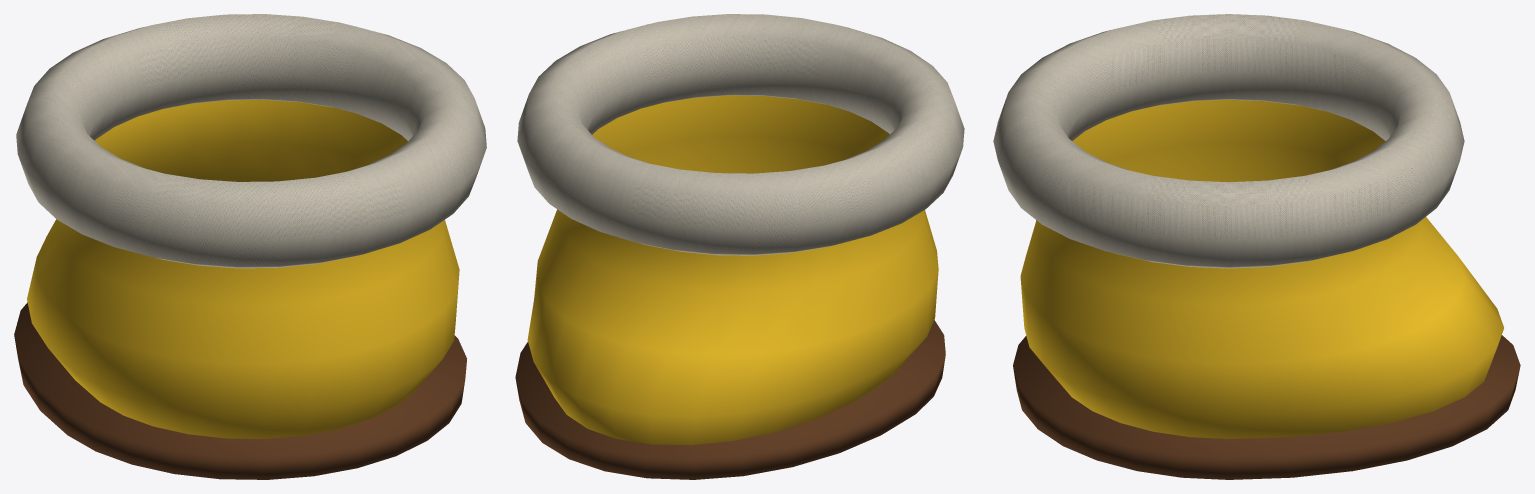
The model's file is boot.glb.
3 renders of one model, left to right at view 1: azimuth 30°, elevation 25°; view 2: azimuth 150°, elevation 25°; view 3: azimuth 270°, elevation 25°, orthographic. The views are drawn at different scales.
Visible parts, largest first — view 1: Boot; view 2: Boot; view 3: Boot.
Part boxes in pixels (x1,y1,x2,y2): Boot: (14,14,486,479); Boot: (515,14,964,479); Boot: (993,14,1520,479).
Size of the model in its own units: 0.2058 by 0.1408 by 0.2303.
3 materials, 1 textured.
